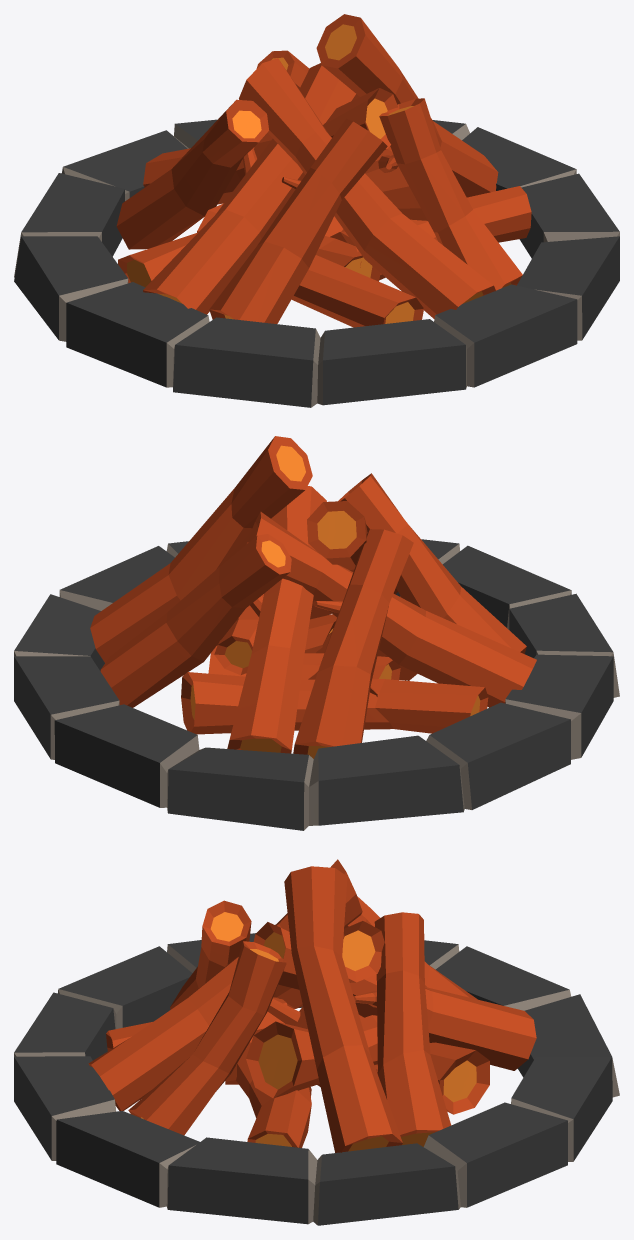
The model's file is item17.glb.
The picture shows the model from 3 angles, top to bottom: view 1: azimuth 30°, elevation 25°; view 2: azimuth 150°, elevation 25°; view 3: azimuth 270°, elevation 25°; orthographic projection.
Visible parts, largest first — view 1: Item17_Medieval_0; view 2: Item17_Medieval_0; view 3: Item17_Medieval_0.
Boxes of the visible parts, box(x1,y1,x2,y2) form: Item17_Medieval_0: box(14, 14, 619, 407); Item17_Medieval_0: box(14, 436, 619, 830); Item17_Medieval_0: box(14, 859, 619, 1225).
Bounding box in the file's own units: 0.6476 × 0.3004 × 0.6538.
1 material, 1 textured.
